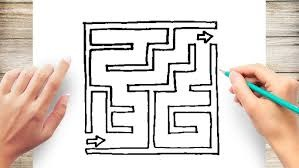maze: (84, 22, 218, 154)
